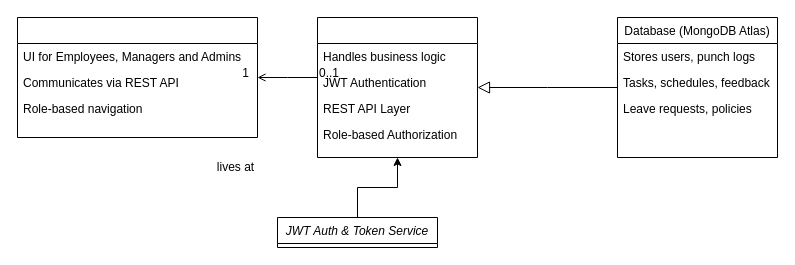
Image size: 795x265. Some labels were removed from this diagram. Each missing label, with the box of its shape:
Backend API (.NET 8): (316, 16, 478, 158)
Web Frontend (Angular): (16, 16, 258, 138)
